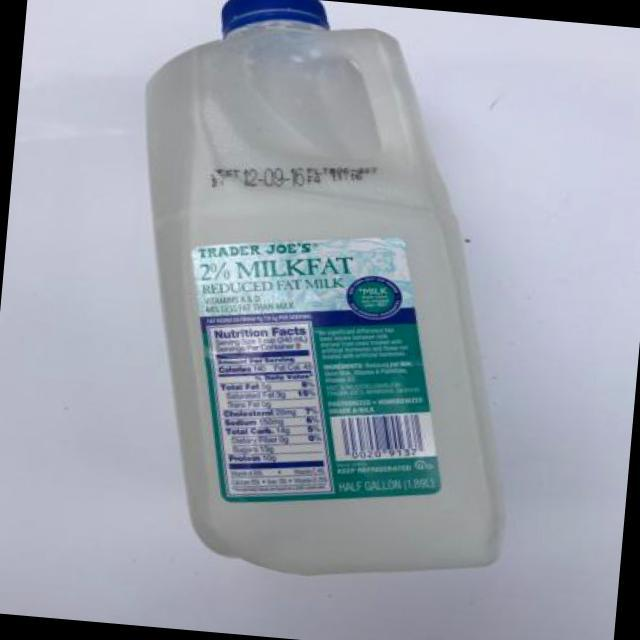HDPE Plastic: (139, 0, 505, 578)
